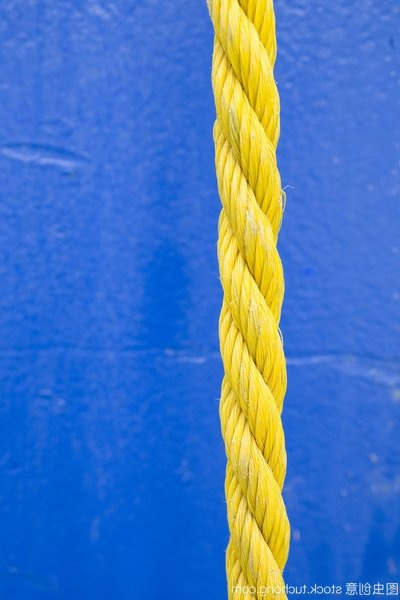9/可回收垃圾/绳子: (204, 1, 290, 600)
